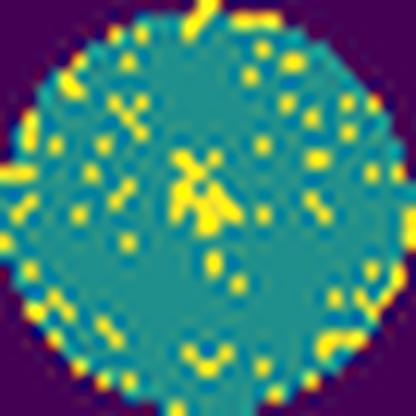Center: (170, 150, 243, 236)
